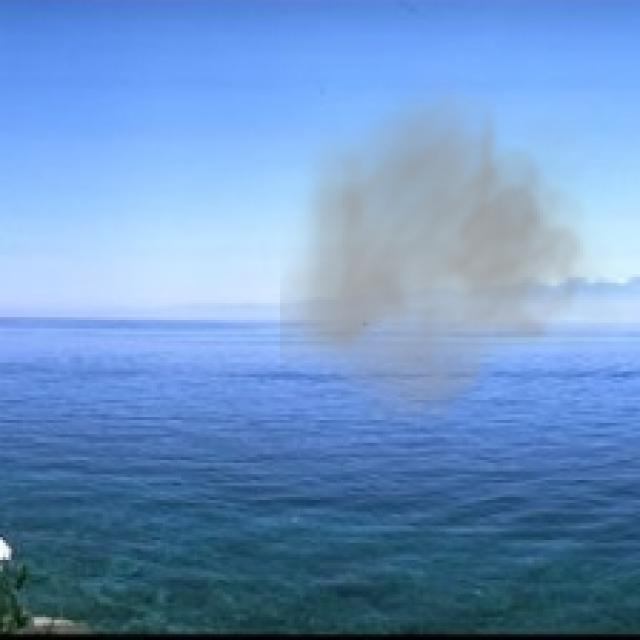Smoke: (280, 74, 623, 440)
